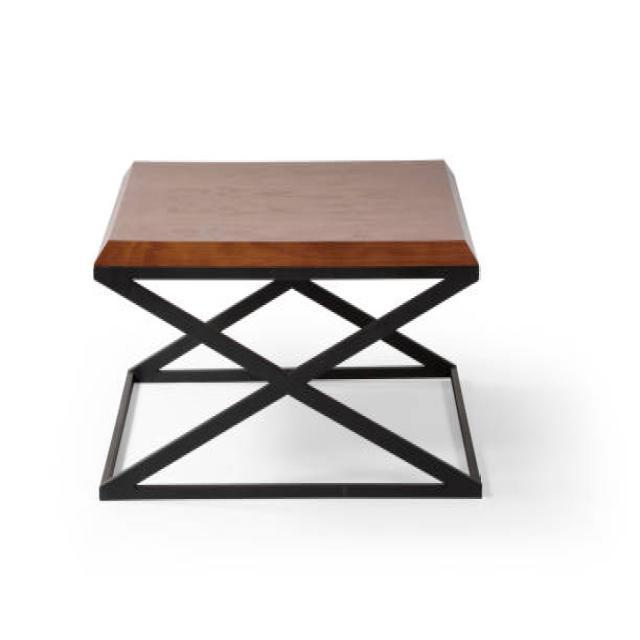table: (92, 157, 482, 501)
